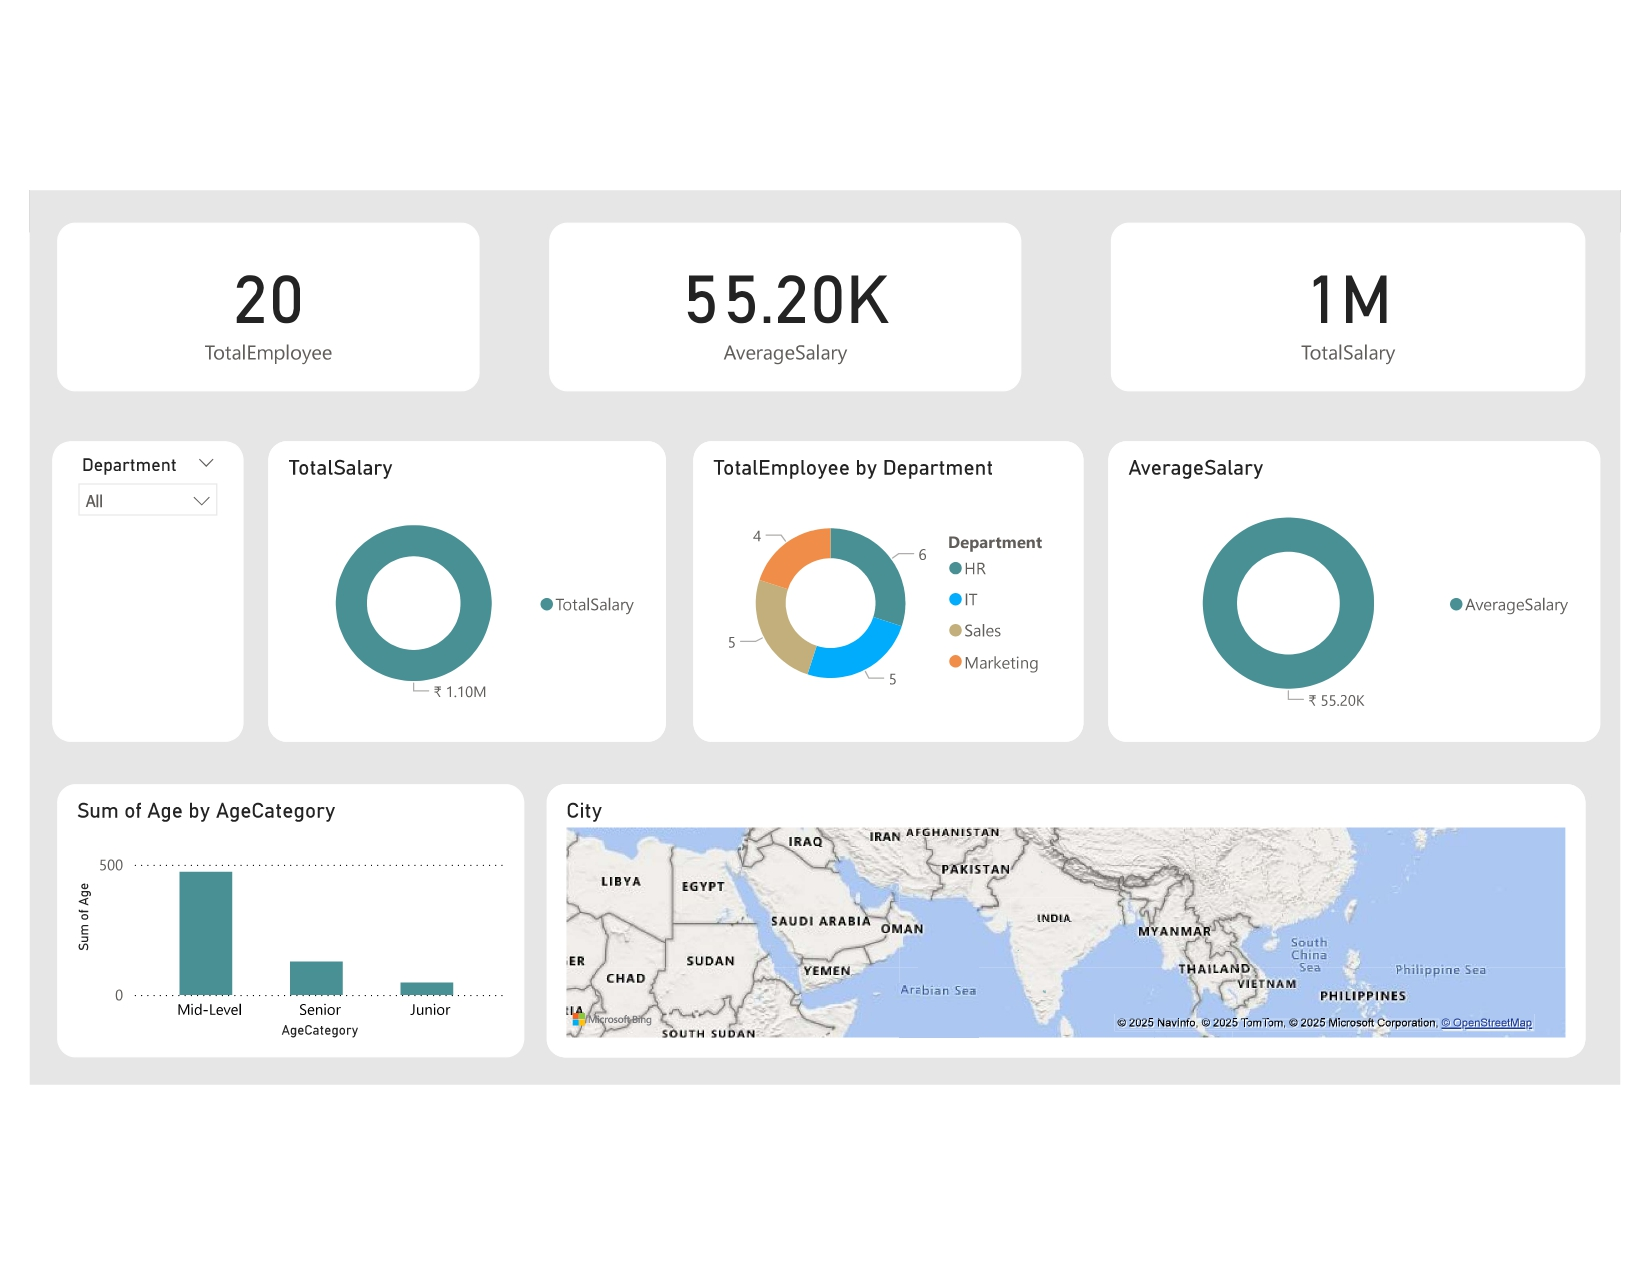

The dashboard page shown, as its layout file describes it:
{"tool":"powerbi","page":{"name":"EmployeeVisual","canvas":[1280,720],"ordinal":0},"visuals":[{"type":"donutChart","fields":{"Y":["EmployeeSheet.TotalSalary"]},"box":[192,202,320,242],"z":0},{"type":"donutChart","fields":{"Y":["EmployeeSheet.AverageSalary"]},"box":[868,202,396,242],"z":1000},{"type":"donutChart","fields":{"Category":["EmployeeSheet.Department"],"Y":["EmployeeSheet.TotalEmployee"]},"box":[534,202,314,242],"z":2000},{"type":"clusteredColumnChart","fields":{"Category":["EmployeeSheet.AgeCategory"],"Y":["Sum(EmployeeSheet.Age)"]},"box":[22,478,376,220],"z":3000},{"type":"slicer","fields":{"Values":["EmployeeSheet.Department"]},"box":[18,202,154,242],"z":4000},{"type":"card","fields":{"Values":["EmployeeSheet.TotalEmployee"]},"box":[22,26,340,136],"z":5000},{"type":"card","fields":{"Values":["EmployeeSheet.AverageSalary"]},"box":[418,26,380,136],"z":6000},{"type":"card","fields":{"Values":["EmployeeSheet.TotalSalary"]},"box":[870,26,382,136],"z":7000},{"type":"filledMap","fields":{"Category":["EmployeeSheet.City"]},"box":[416,478,836,220],"z":8000}]}

Visuals, with their boxes on the page's 1280x720 design canvas (x1, y1, x2, y2). These are canvas units, not pixel positions in the 1650x1275 screenshot, which may show the page scaled, cropped or inside an application window:
donutChart - EmployeeSheet.TotalSalary: 192, 202, 512, 444
donutChart - EmployeeSheet.AverageSalary: 868, 202, 1264, 444
donutChart - EmployeeSheet.Department x EmployeeSheet.TotalEmployee: 534, 202, 848, 444
clusteredColumnChart - EmployeeSheet.AgeCategory x Sum(EmployeeSheet.Age): 22, 478, 398, 698
slicer - EmployeeSheet.Department: 18, 202, 172, 444
card - EmployeeSheet.TotalEmployee: 22, 26, 362, 162
card - EmployeeSheet.AverageSalary: 418, 26, 798, 162
card - EmployeeSheet.TotalSalary: 870, 26, 1252, 162
filledMap - EmployeeSheet.City: 416, 478, 1252, 698
